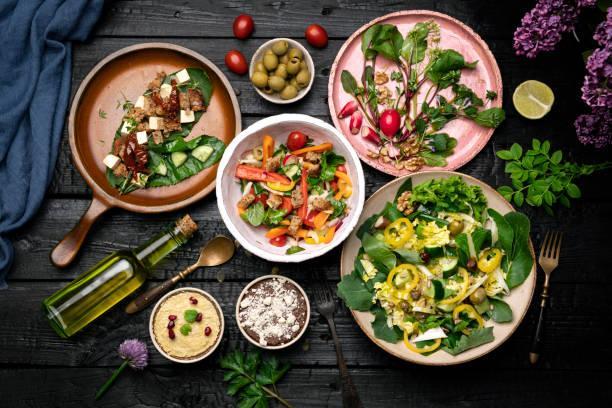Braised Crucian Carp: (345, 169, 530, 362), (320, 8, 506, 178), (64, 41, 233, 212), (214, 114, 361, 263)
